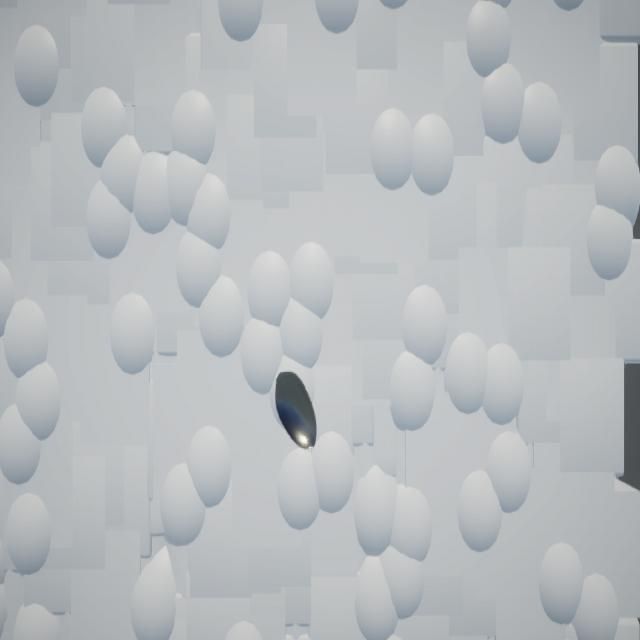top_spoon: (276, 372, 318, 450)
